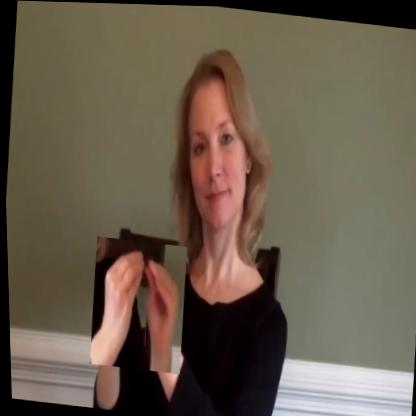Fix: (84, 236, 189, 373)
